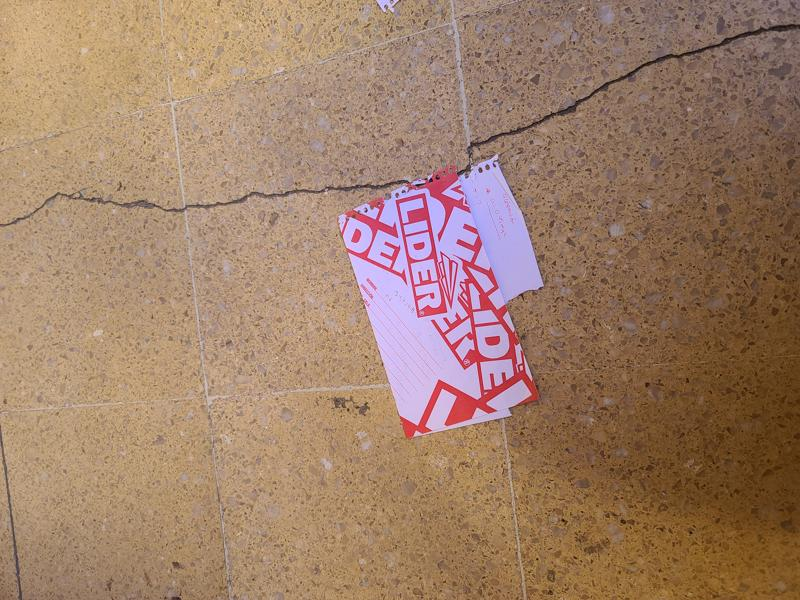papel: (338, 160, 540, 440)
